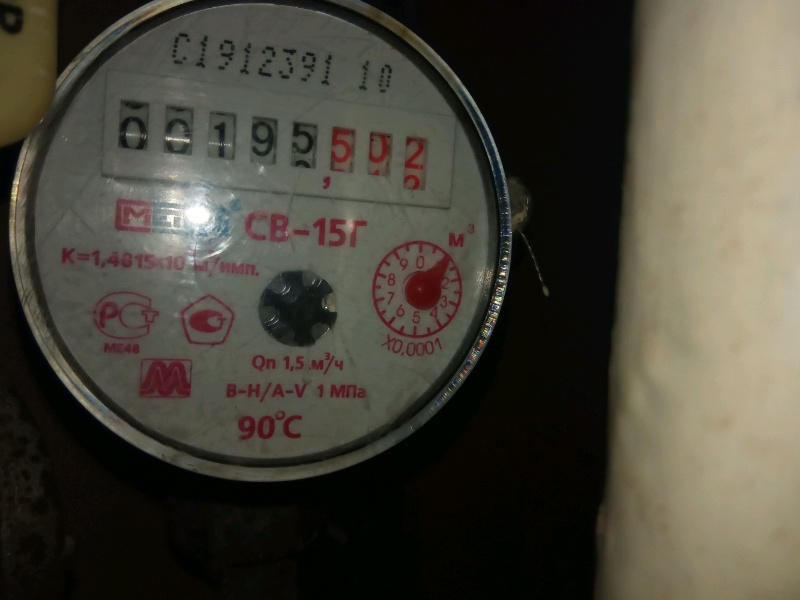meter: (102, 88, 436, 198)
